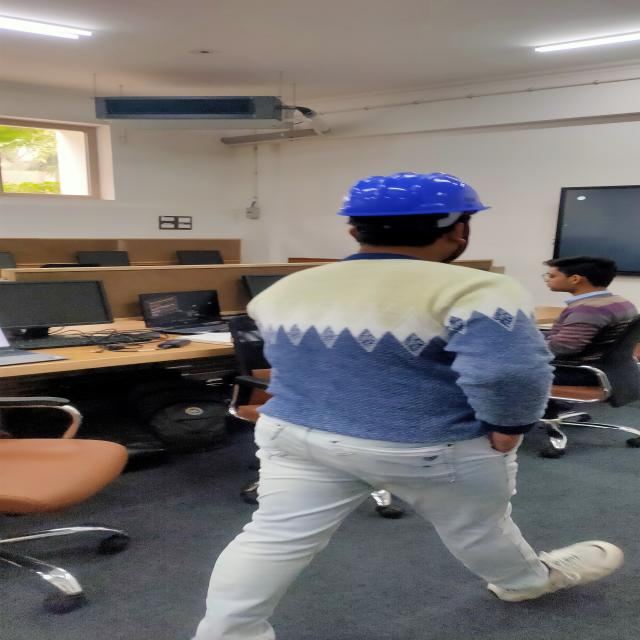no jacket: (242, 172, 626, 600)
unsafe: (541, 253, 640, 359)
